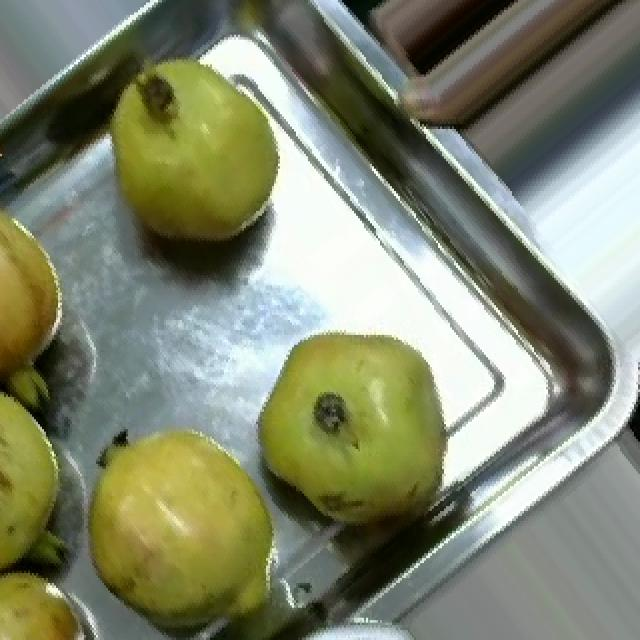fruit: (42, 389, 302, 640), (230, 305, 474, 568), (74, 35, 308, 275), (0, 364, 92, 586), (0, 186, 88, 412), (352, 0, 518, 69)
